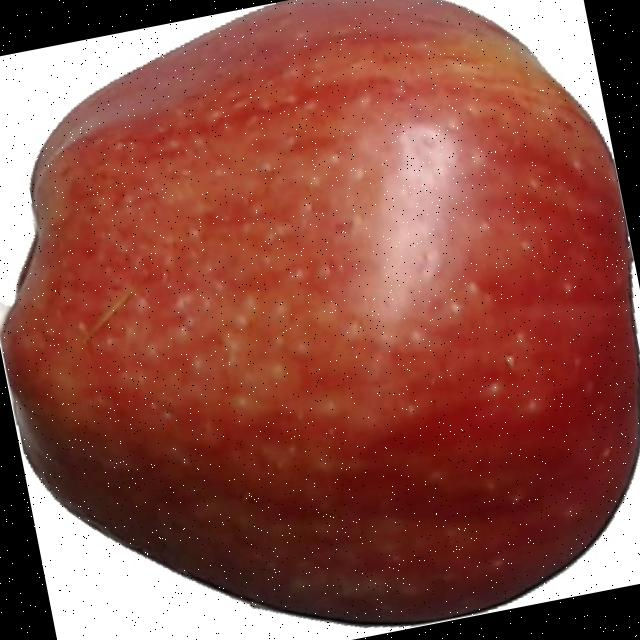apple: (0, 0, 640, 630)
